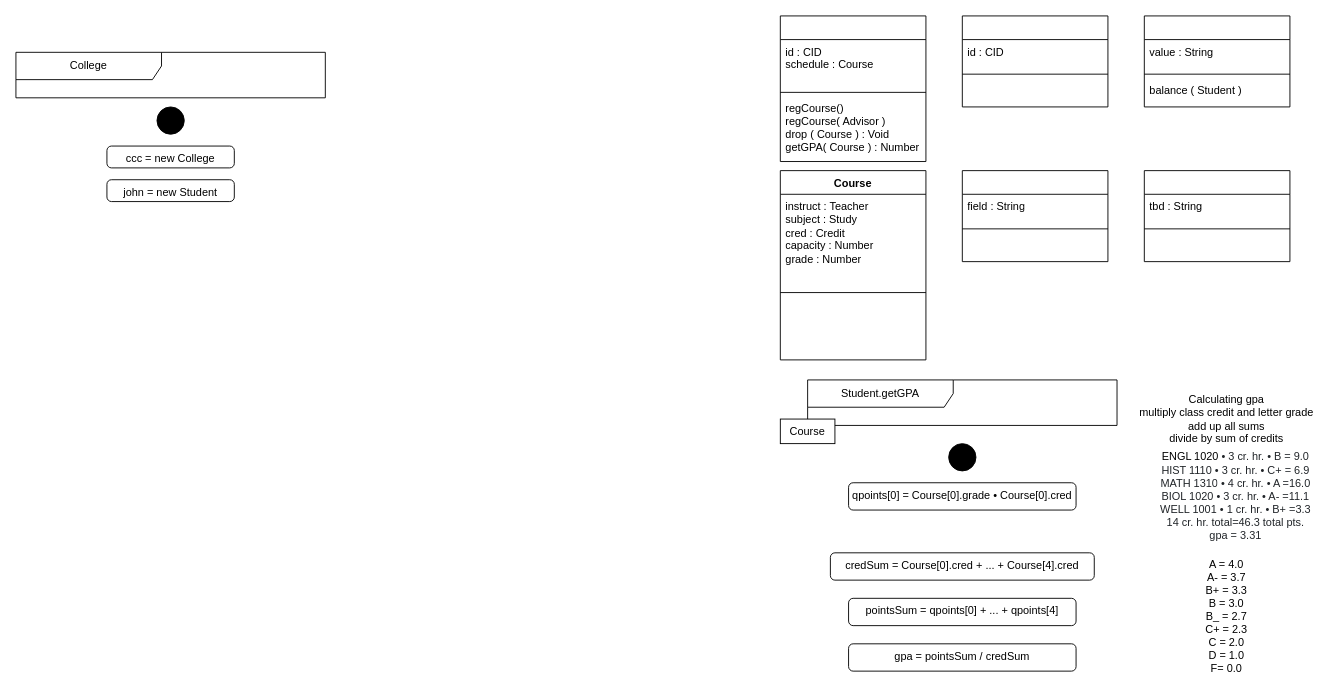
Image size: 1338x696. Some labels were removed from this diagram. The box of each missing label's shape, as (x1, y1, x2, y2) in pixels:
CID: (1143, 15, 1290, 107)
Major: (1143, 170, 1290, 262)
Student: (779, 15, 926, 162)
Study: (961, 170, 1108, 262)
Teacher: (961, 15, 1108, 107)
